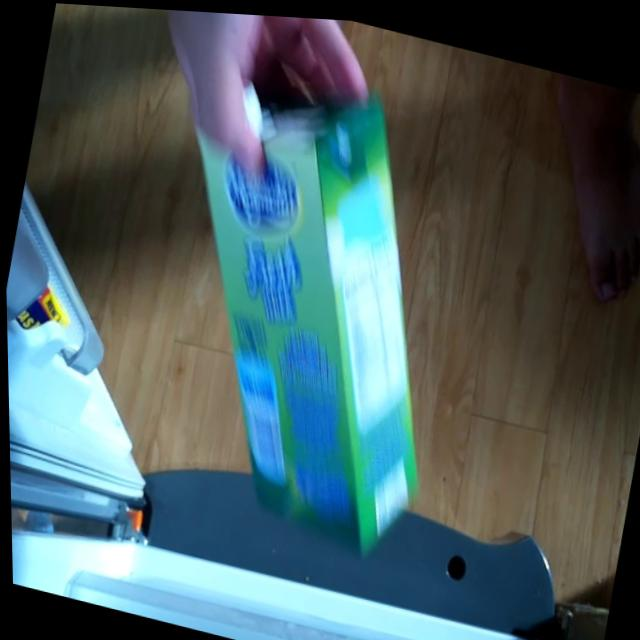milk: (113, 36, 492, 566)
